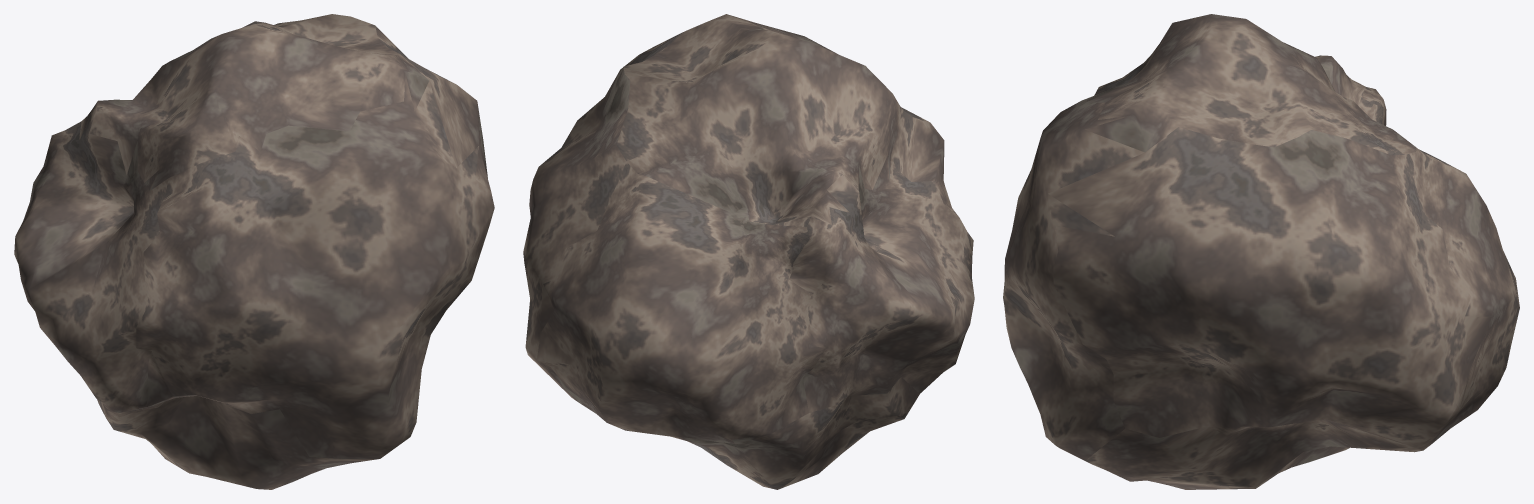
Rendered from boulder5.fbx.
3 renders of one model, left to right at view 1: azimuth 30°, elevation 25°; view 2: azimuth 150°, elevation 25°; view 3: azimuth 270°, elevation 25°, orthographic. The views are drawn at different scales.
Parts seen in each view (by area): view 1: boulder; view 2: boulder; view 3: boulder.
Part boxes in pixels (x1=…): boulder: x1=14, y1=14, x2=494, y2=489; boulder: x1=523, y1=14, x2=974, y2=489; boulder: x1=1003, y1=14, x2=1519, y2=489.
Size of the model in its own units: 116 by 121 by 121.
Materials: 1 (1 with a texture image).
